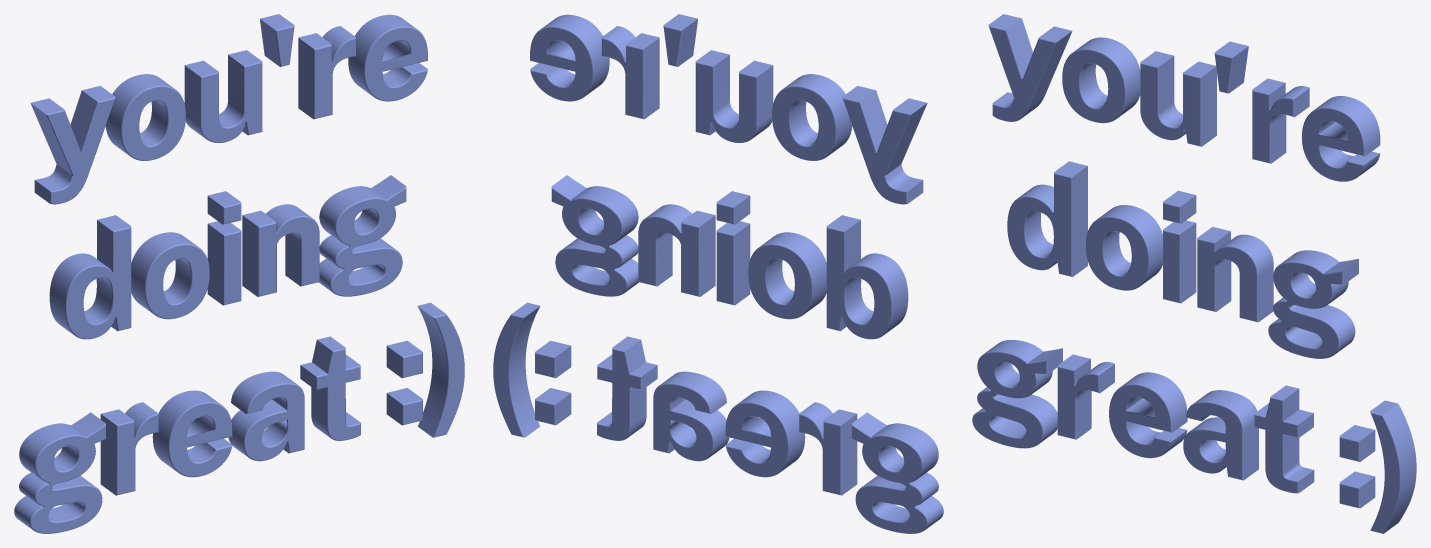
Rendered from Great.gltf.
3 views of the same model, side by side, from view 1: azimuth 30°, elevation 25°; view 2: azimuth 150°, elevation 25°; view 3: azimuth 330°, elevation 25° (orthographic).
Parts seen in each view (by area): view 1: doing great; view 2: doing great; view 3: doing great.
Part boxes in pixels (x1,y1,x2,y2): doing great: [14, 14, 464, 533]; doing great: [493, 14, 943, 533]; doing great: [972, 14, 1416, 533].
Size of the model in its own units: 6.66 by 6.59 by 0.4485.
